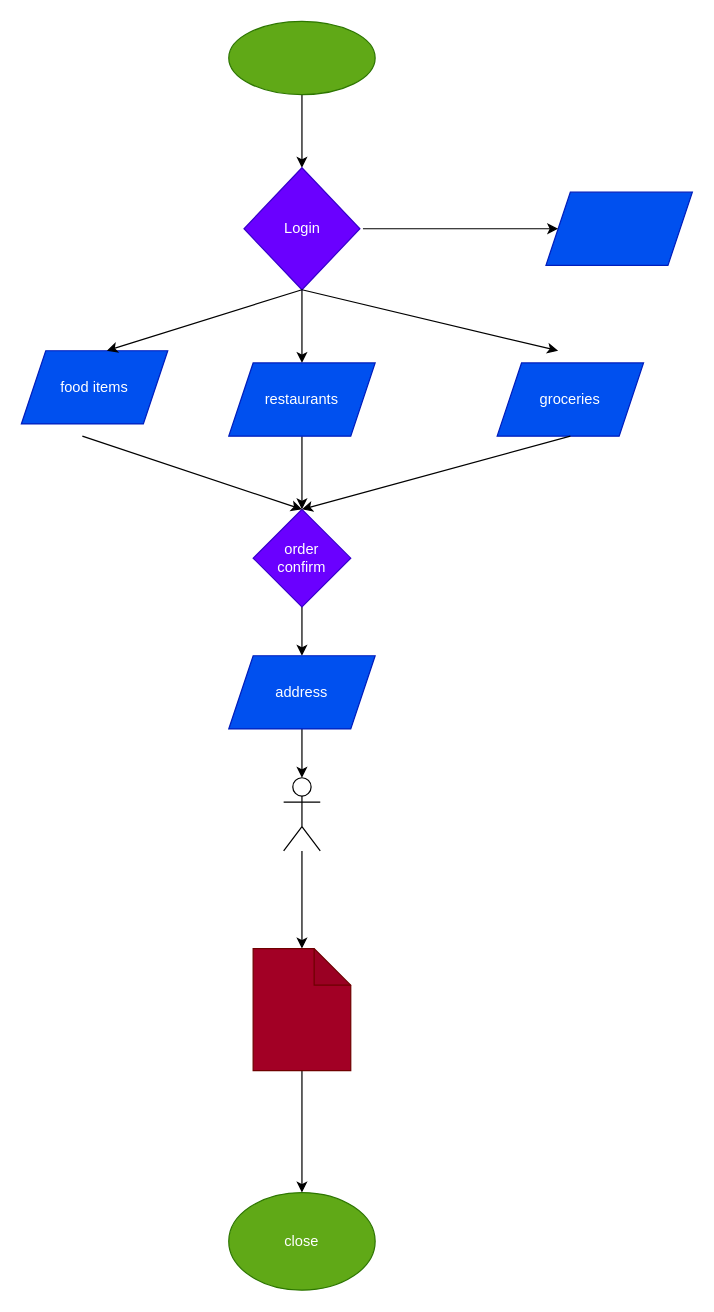
This 714x1312 diagram has some shape labels left out. Each missing label, with the centre of its shape:
"Actor" goes at (301,814).
"feedback" goes at (301,1009).
"open" goes at (301,57).
"sign up" goes at (618,228).
